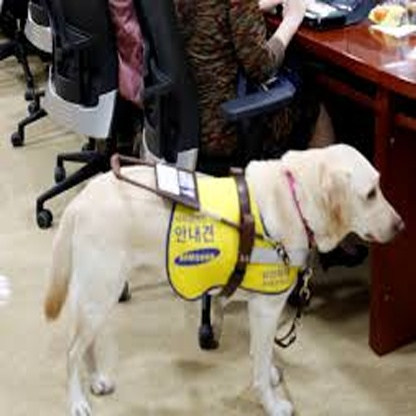guide-dog: (42, 142, 408, 416)
